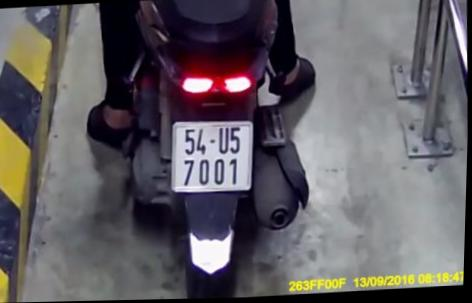LP: (167, 115, 260, 198)
